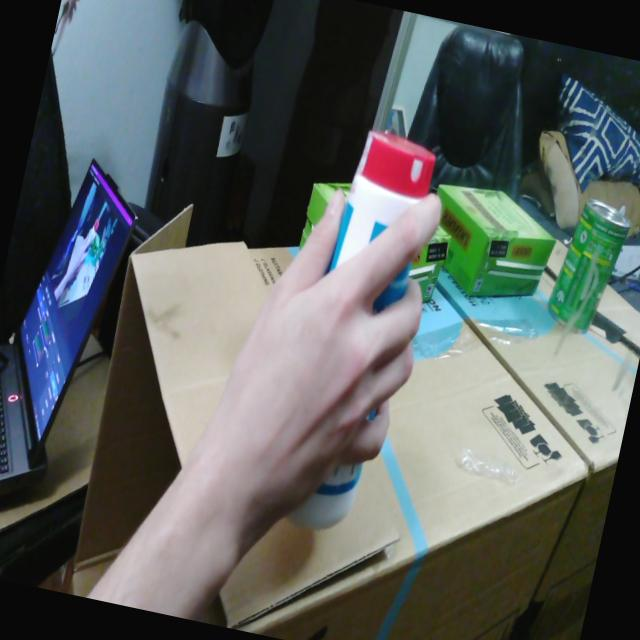twinings_greentea_box: (298, 183, 352, 250), (408, 226, 451, 302)
woolworths_salt_bottle: (329, 130, 435, 271), (284, 463, 362, 529), (373, 262, 411, 313), (366, 408, 376, 420)
